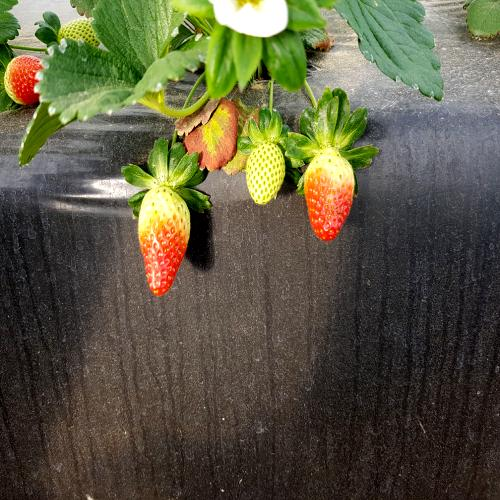partially-ripe: (136, 170, 192, 309), (300, 130, 361, 256)
